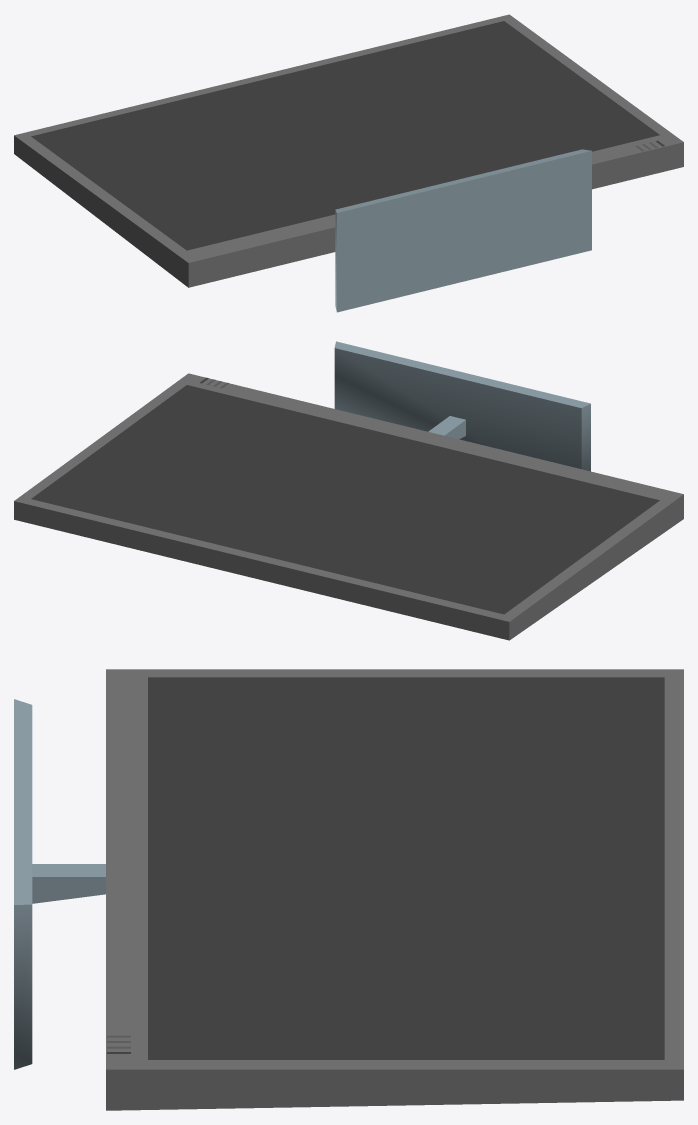
3 views of the same model, one above another, from view 1: azimuth 30°, elevation 25°; view 2: azimuth 150°, elevation 25°; view 3: azimuth 270°, elevation 25° (orthographic). The views are drawn at different scales.
Visible parts, largest first — view 1: electronics_033; view 2: electronics_033; view 3: electronics_033.
Boxes of the visible parts, x1,y1,x2,y2 form: electronics_033: (14, 14, 683, 312); electronics_033: (14, 341, 683, 640); electronics_033: (14, 669, 683, 1110).
Size of the model in its own units: 1.35 by 0.2585 by 0.9525.
1 material, 1 textured.
